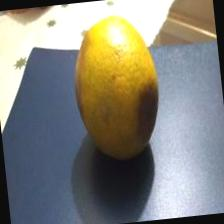Orange Rotten: (64, 3, 172, 176)
